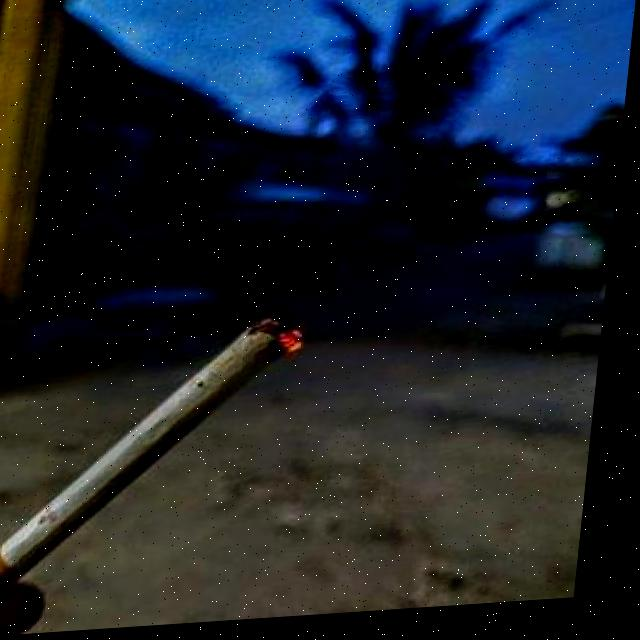cigarette: (0, 321, 304, 639)
